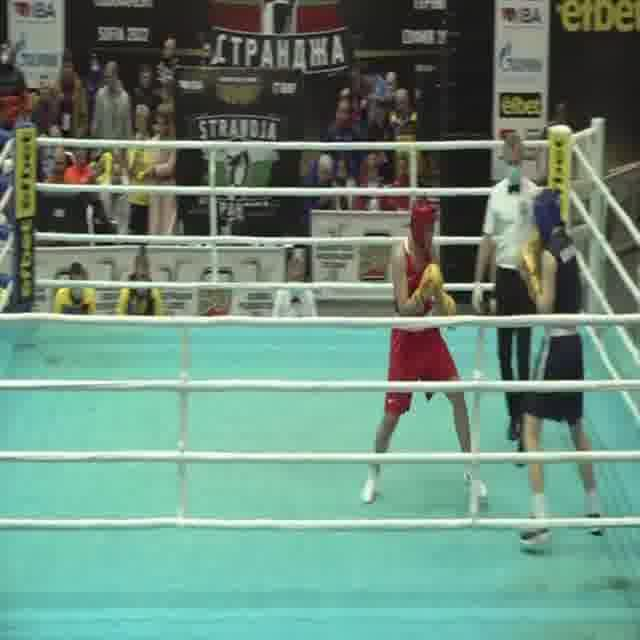blue-player: (514, 186, 611, 550)
red-player: (358, 196, 490, 514)
referee: (467, 132, 549, 468)
